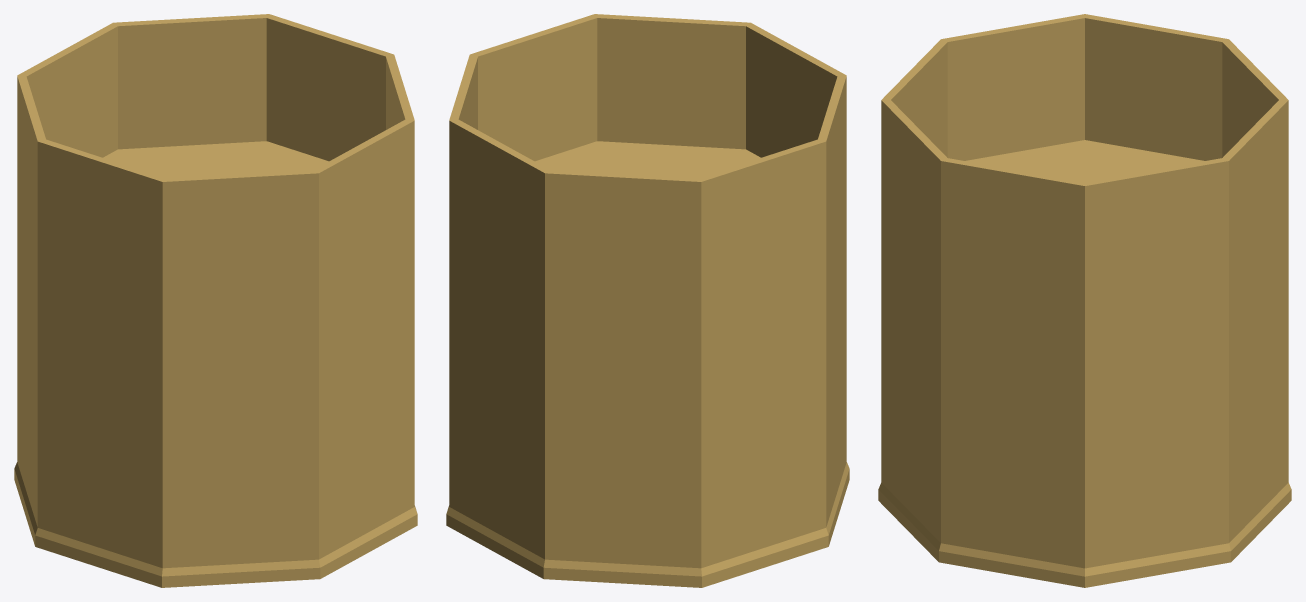
Rendered from case_40x46.glb.
3 views of the same model, side by side, from view 1: azimuth 30°, elevation 25°; view 2: azimuth 150°, elevation 25°; view 3: azimuth 270°, elevation 25° (orthographic).
Visible parts, largest first — view 1: case_40x46; view 2: case_40x46; view 3: case_40x46.
Part boxes in pixels (x1,y1,x2,y2): case_40x46: (14, 14, 417, 587); case_40x46: (446, 14, 849, 587); case_40x46: (878, 14, 1291, 587).
Bounding box in the file's own units: 0.043 × 0.046 × 0.043.
